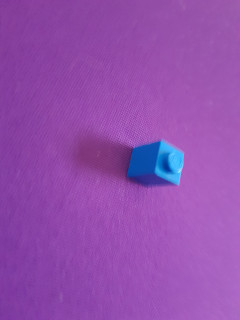1x1 blue: (126, 138, 186, 189)
